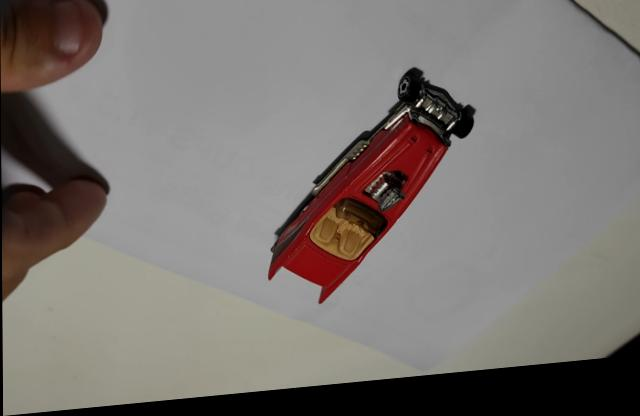03_V8: (266, 75, 476, 309)
